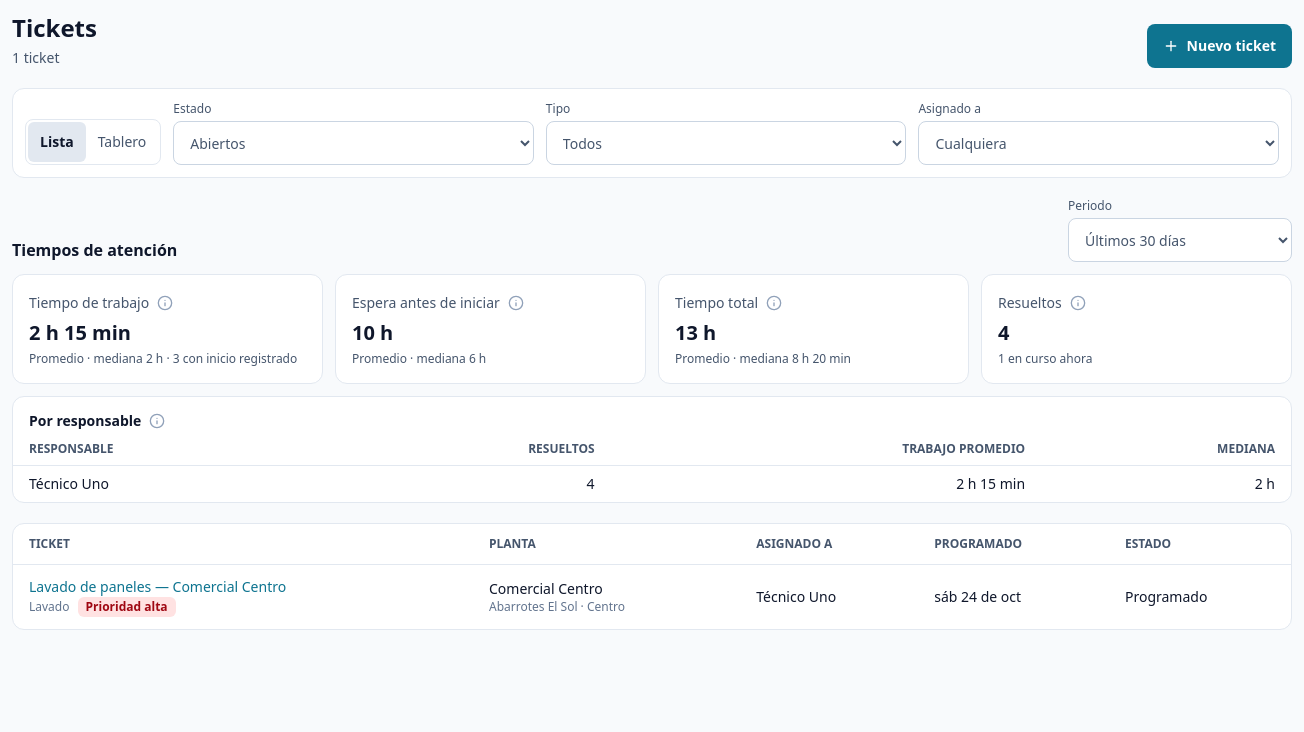
Test case: tiempos de atención (specs/PREGUNTAS.md #204) › el tooltip explica el dato al enfocarlo y se cierra con Escape
Hover over the button named "¿Qué es \"Tiempo de trabajo\"?" at [165, 303], box [153, 291, 177, 315]
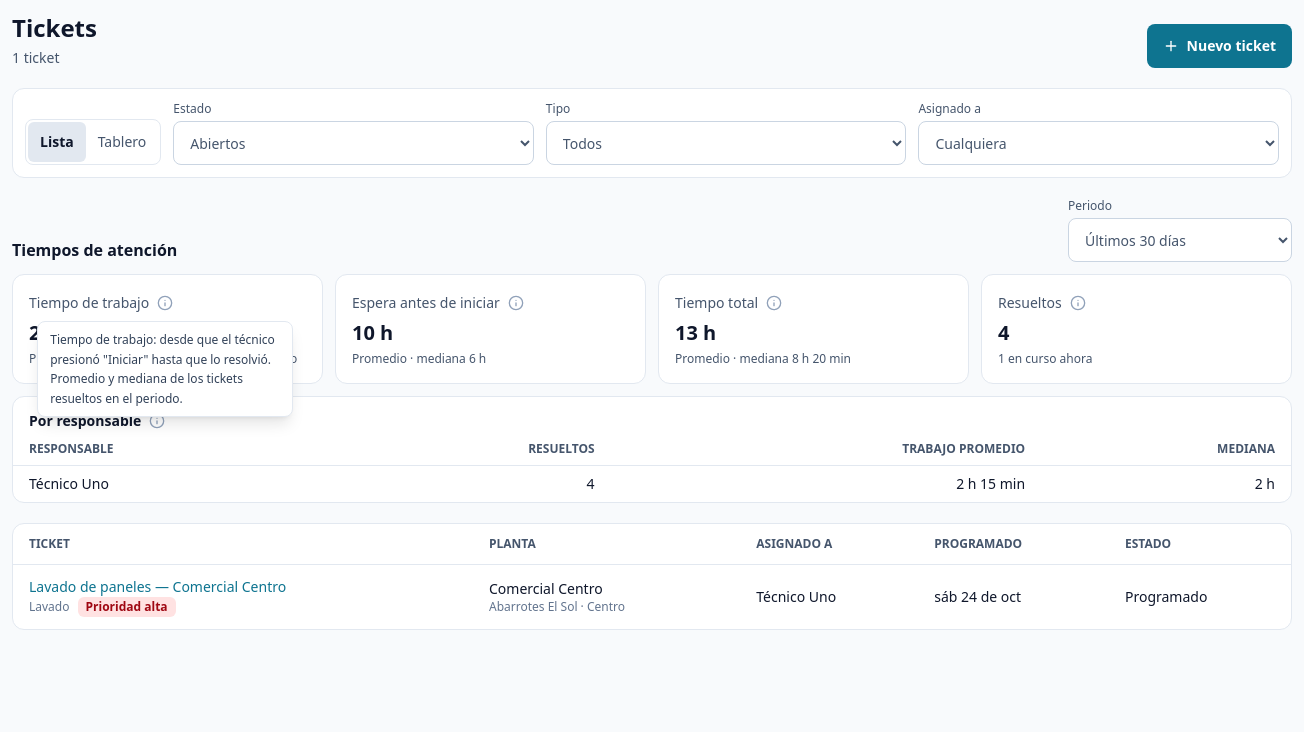
Now the tooltip shows "desde que el técnico presionó \"Iniciar\"", box [50, 331, 275, 406]
Press Escape
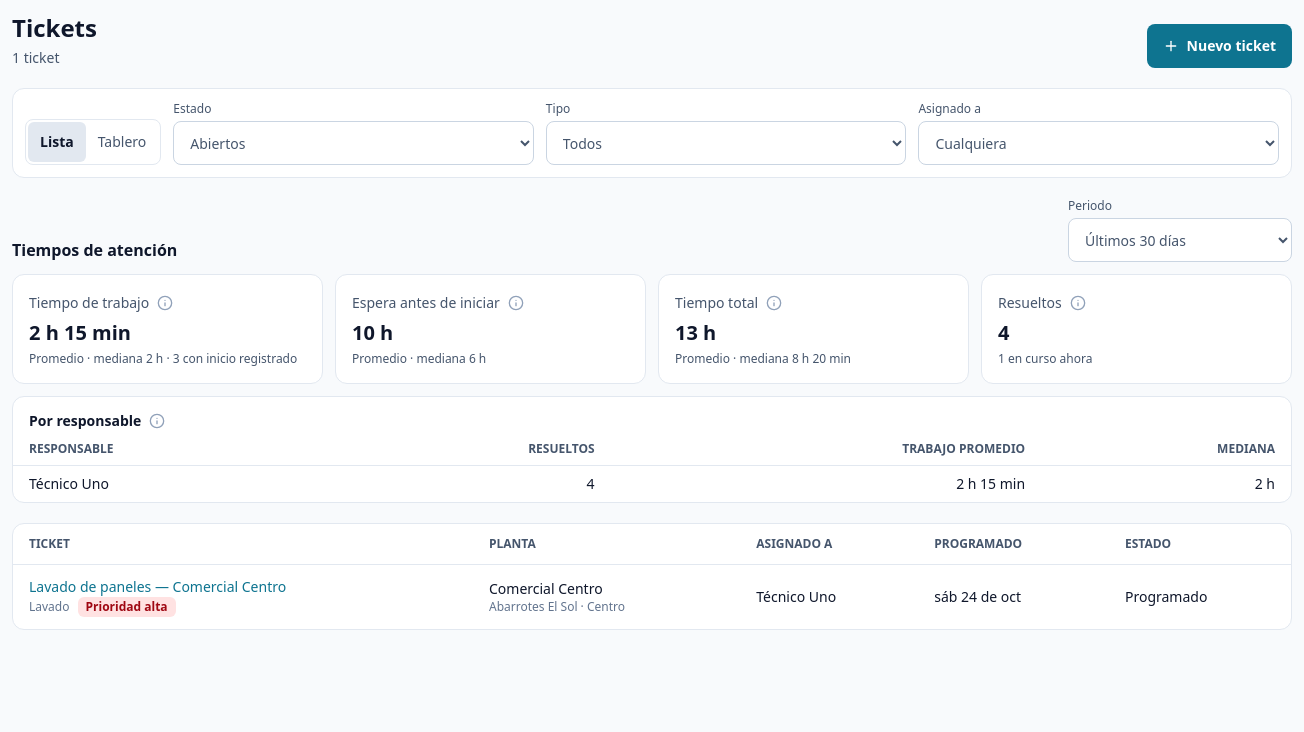
Now the tooltip is gone
